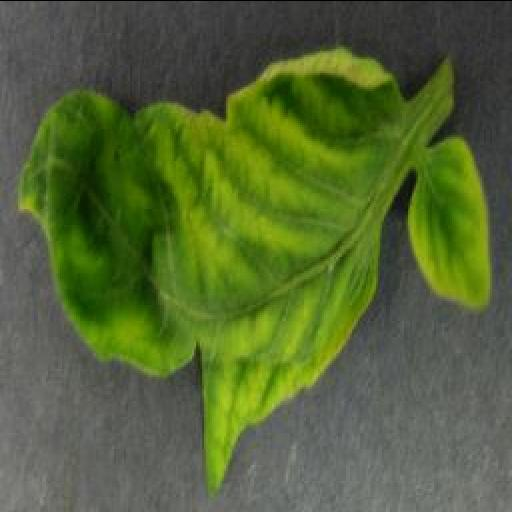disease_tomato: (16, 44, 394, 498), (408, 134, 492, 316)
